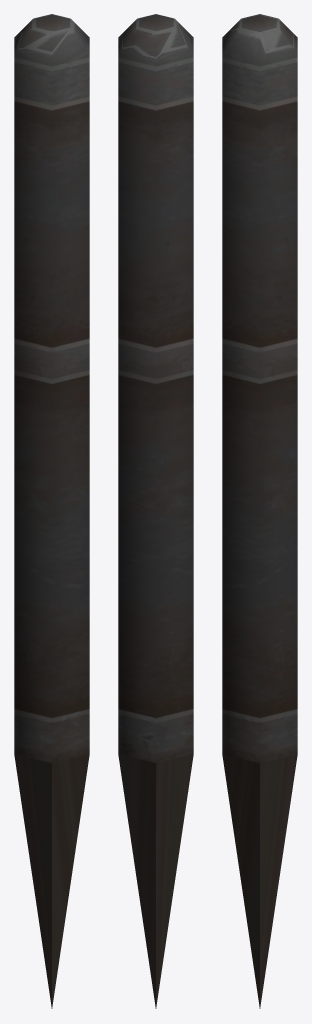
Rendered from chainlinkfencepost.fbx.
3 renders of one model, left to right at view 1: azimuth 90°, elevation 25°; view 2: azimuth 150°, elevation 25°; view 3: azimuth 330°, elevation 25°, orthographic.
Visible parts, largest first — view 1: Geoset_0; view 2: Geoset_0; view 3: Geoset_0.
Boxes of the visible parts, x1,y1,x2,y2 form: Geoset_0: (14, 14, 89, 1008); Geoset_0: (118, 14, 193, 1008); Geoset_0: (222, 14, 297, 1008).
Size of the model in its own units: 0.16 by 2 by 0.1386.
Materials: 1 (1 with a texture image).
